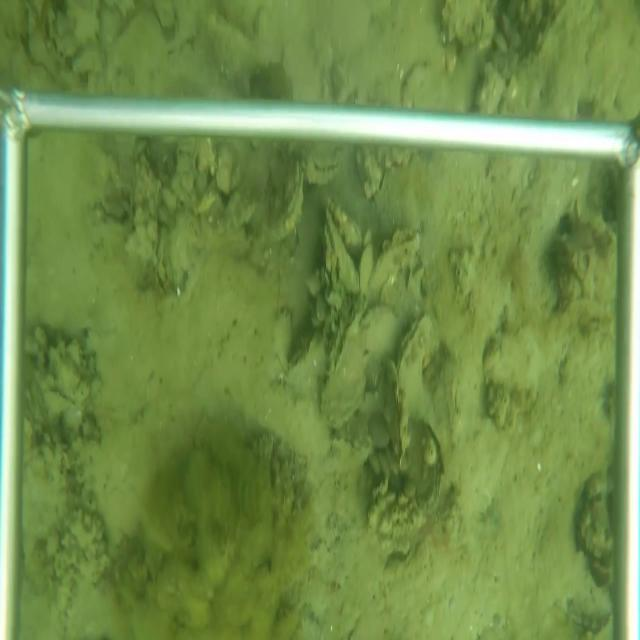Oyster-Closed: (394, 310, 441, 426), (262, 155, 306, 243), (328, 208, 361, 296), (387, 354, 408, 480), (415, 430, 443, 521), (305, 144, 350, 188), (355, 147, 388, 207), (42, 383, 78, 418), (321, 223, 335, 278)
Oyster-Indeterminate: (320, 305, 366, 430), (281, 324, 330, 396), (365, 303, 403, 390)
Oyster-Open: (19, 6, 59, 88), (89, 196, 134, 235)
